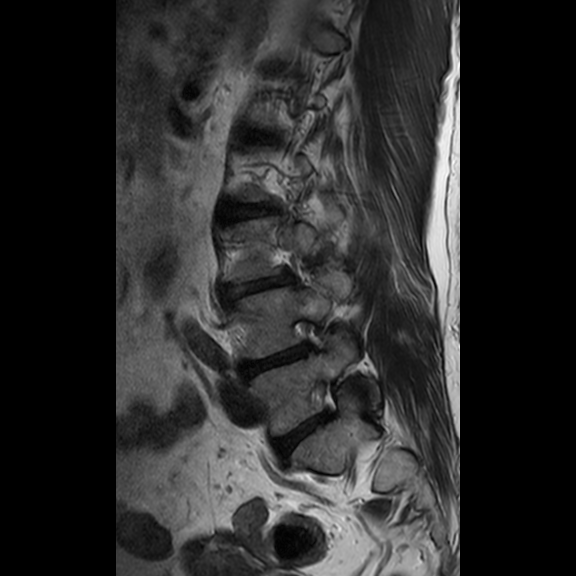LFS0: (286, 306, 337, 365)
